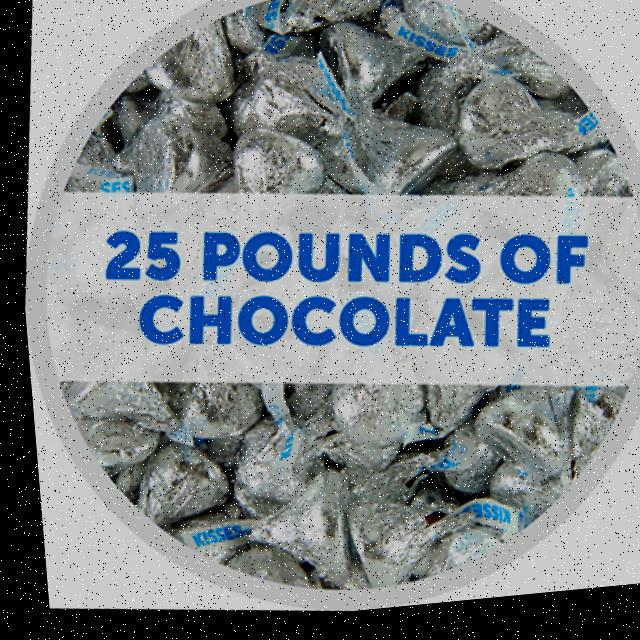kisses: (157, 448, 374, 614), (294, 39, 480, 213)
